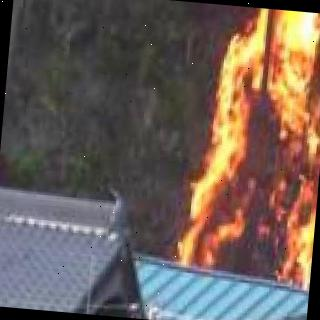fire: (181, 3, 320, 287)
